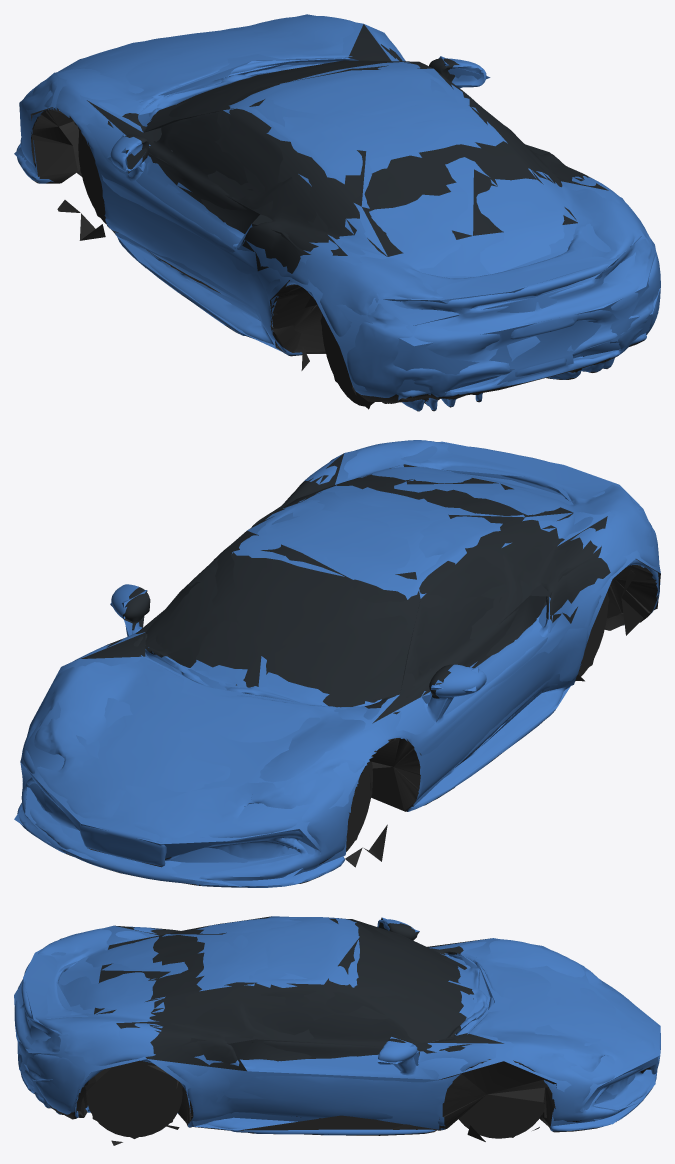
The model's file is ferrari-296-gtb.glb.
3 views of the same model, one above another, from view 1: azimuth 30°, elevation 25°; view 2: azimuth 150°, elevation 25°; view 3: azimuth 270°, elevation 25° (orthographic). The views are drawn at different scales.
Visible parts, largest first — view 1: body, far; view 2: body, far; view 3: body, far.
Part boxes in pixels (left/top/right/bottom): body: left=16, top=16, right=660, bottom=411; far: left=14, top=14, right=660, bottom=409; body: left=17, top=440, right=660, bottom=887; far: left=14, top=441, right=660, bottom=886; body: left=14, top=917, right=660, bottom=1145; far: left=14, top=916, right=660, bottom=1138.
Bounding box in the file's own units: 2.31 × 1.2 × 4.61.
